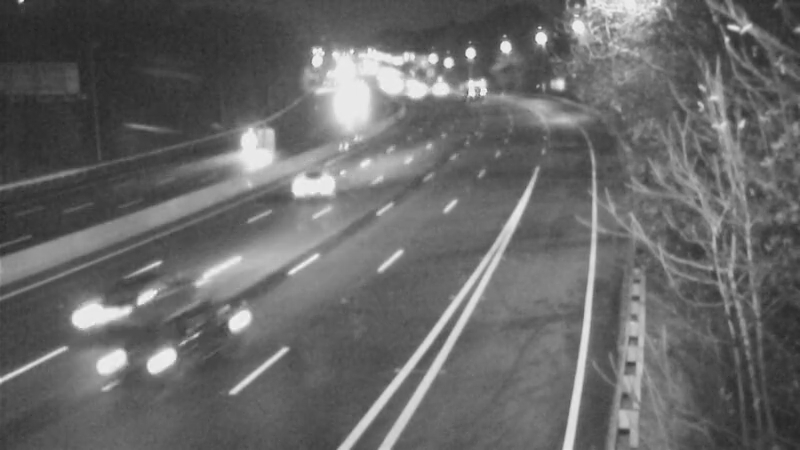vehicle: (52, 251, 162, 361), (84, 301, 194, 411), (286, 139, 366, 219), (236, 124, 286, 174)
